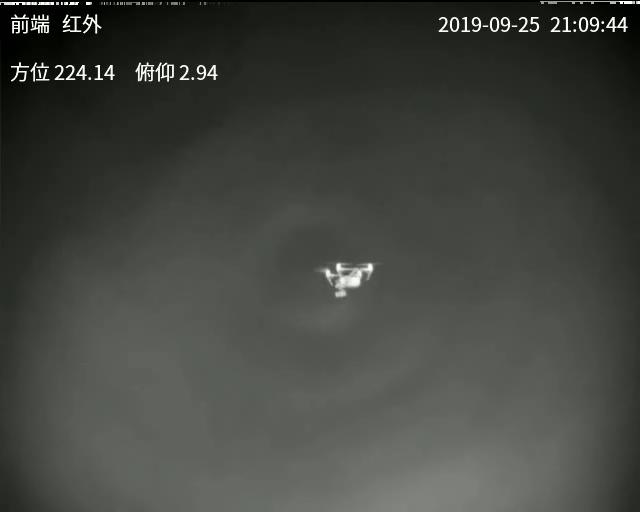uav: (322, 263, 375, 303)
